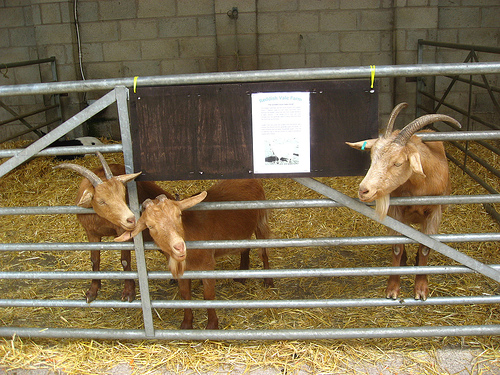goat: (112, 176, 277, 329), (344, 101, 463, 302), (49, 151, 174, 302)
